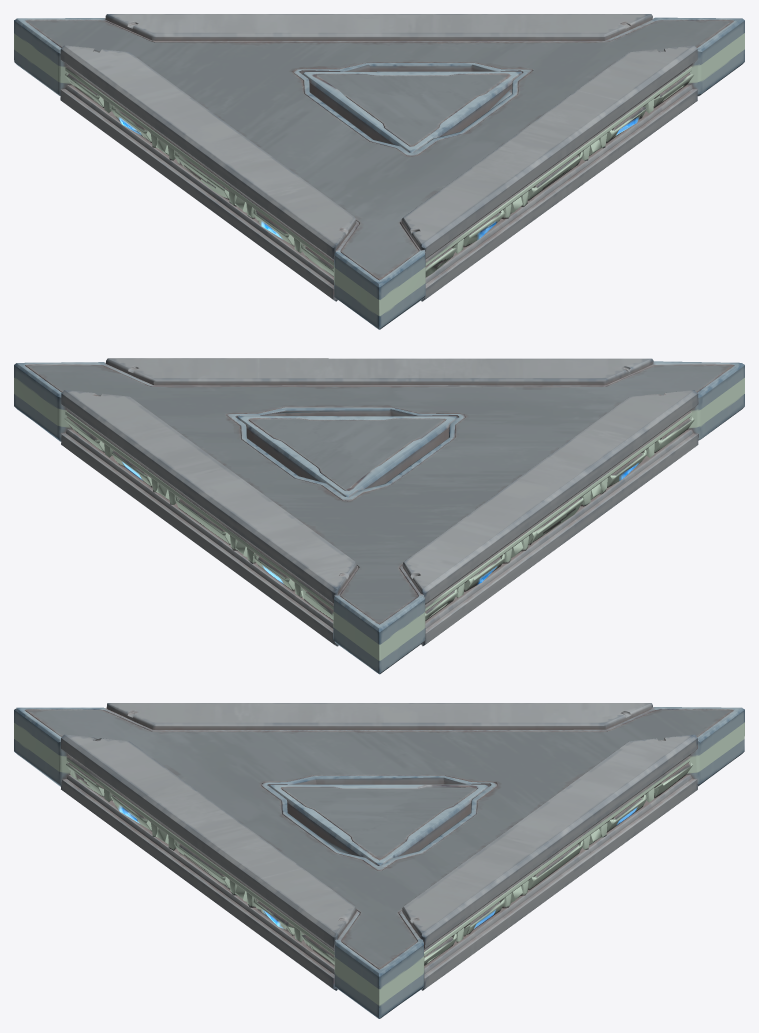
Rendered from Tek Triangle Ceiling.glb.
3 views of the same model, one above another, from view 1: azimuth 30°, elevation 25°; view 2: azimuth 150°, elevation 25°; view 3: azimuth 270°, elevation 25° (orthographic).
Visible parts, largest first — view 1: SM_Tek_CeilingTriangle; view 2: SM_Tek_CeilingTriangle; view 3: SM_Tek_CeilingTriangle.
Part boxes in pixels (bbox=[...]): SM_Tek_CeilingTriangle: bbox=[14, 14, 744, 329]; SM_Tek_CeilingTriangle: bbox=[14, 358, 744, 674]; SM_Tek_CeilingTriangle: bbox=[14, 703, 744, 1018].
Size of the model in its own units: 2.61 by 0.2702 by 3.01.
1 material, 1 textured.
